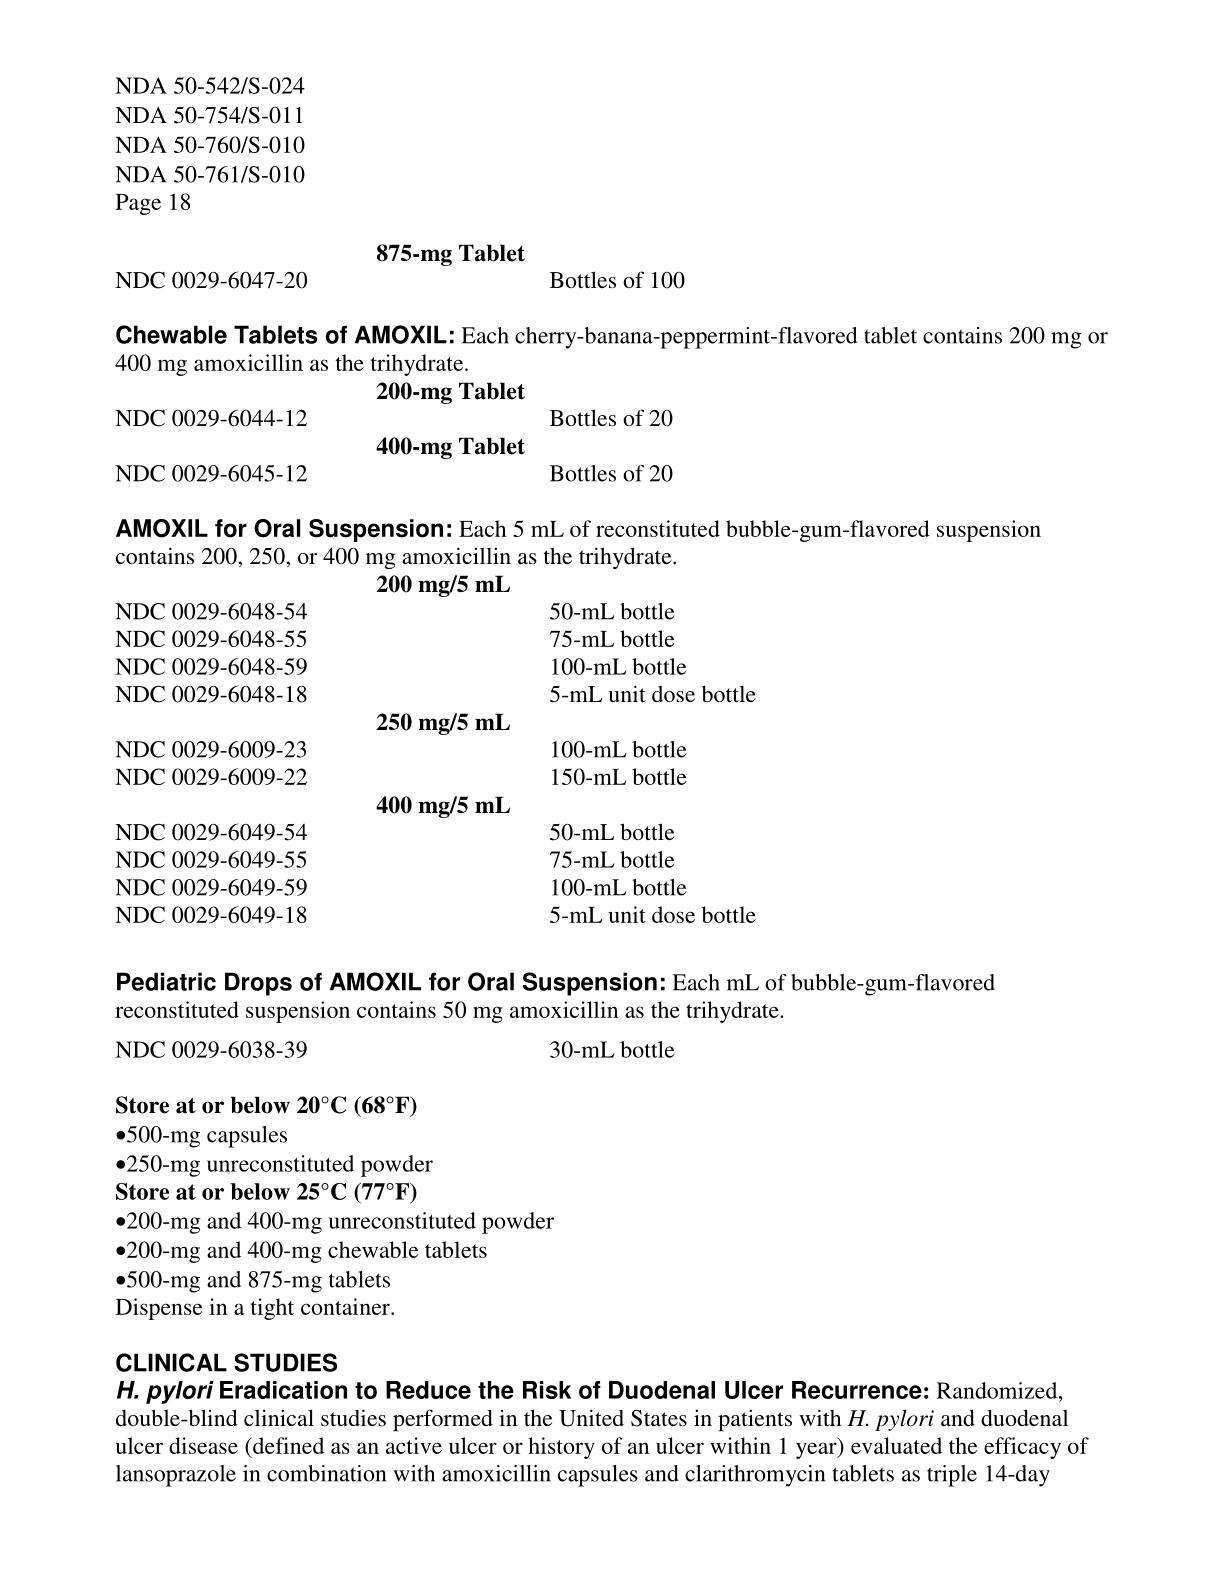nolines: (111, 570, 761, 930), (111, 377, 678, 485), (108, 228, 690, 294)
